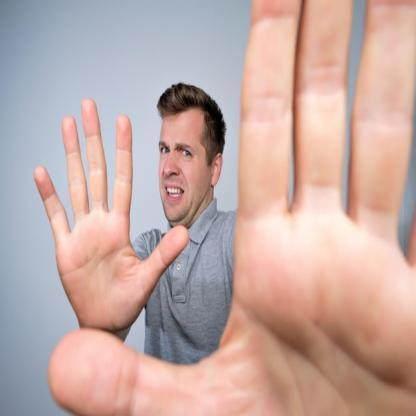stop: (32, 94, 190, 334)
